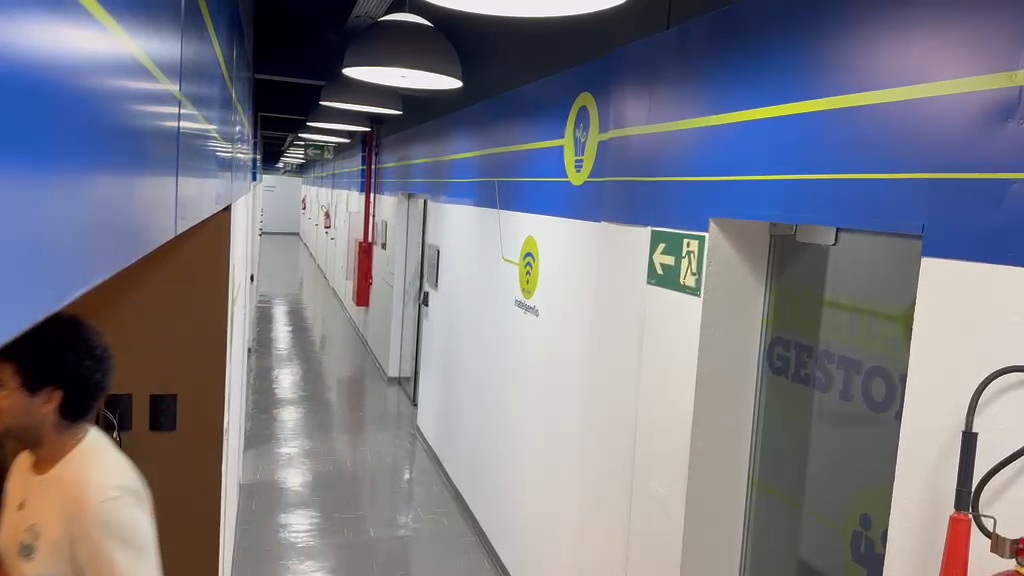person: (0, 312, 165, 572)
